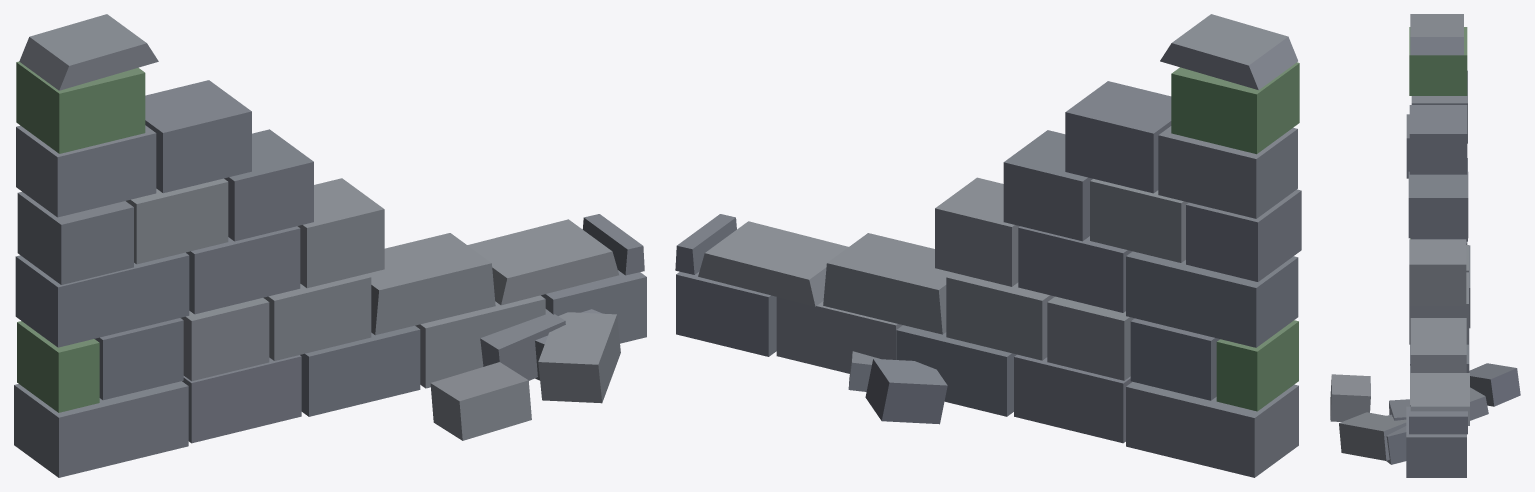
Rendered from broken_wall.glb.
The picture shows the model from 3 angles, left to right: view 1: azimuth 30°, elevation 25°; view 2: azimuth 150°, elevation 25°; view 3: azimuth 270°, elevation 25°; orthographic projection. The views are drawn at different scales.
Visible parts, largest first — view 1: broken_wall; view 2: broken_wall; view 3: broken_wall.
Part boxes in pixels (x1,y1,x2,y2): broken_wall: [14, 14, 646, 477]; broken_wall: [675, 14, 1301, 477]; broken_wall: [1330, 14, 1520, 477].
Size of the model in its own units: 3.96 by 2.74 by 1.66.
